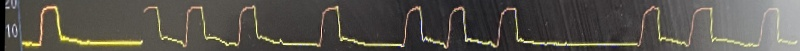normal_pressure: (15, 0, 800, 51)
